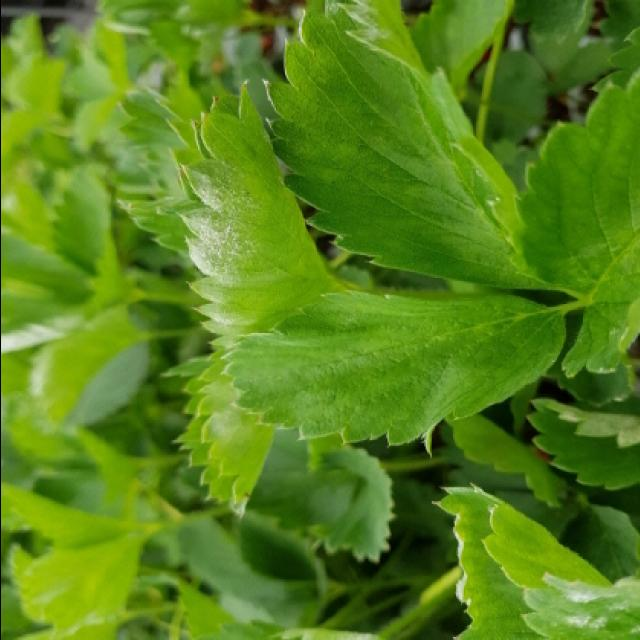Powdery Mildew Leaf: (176, 76, 345, 348), (432, 483, 640, 640), (168, 349, 274, 520)
